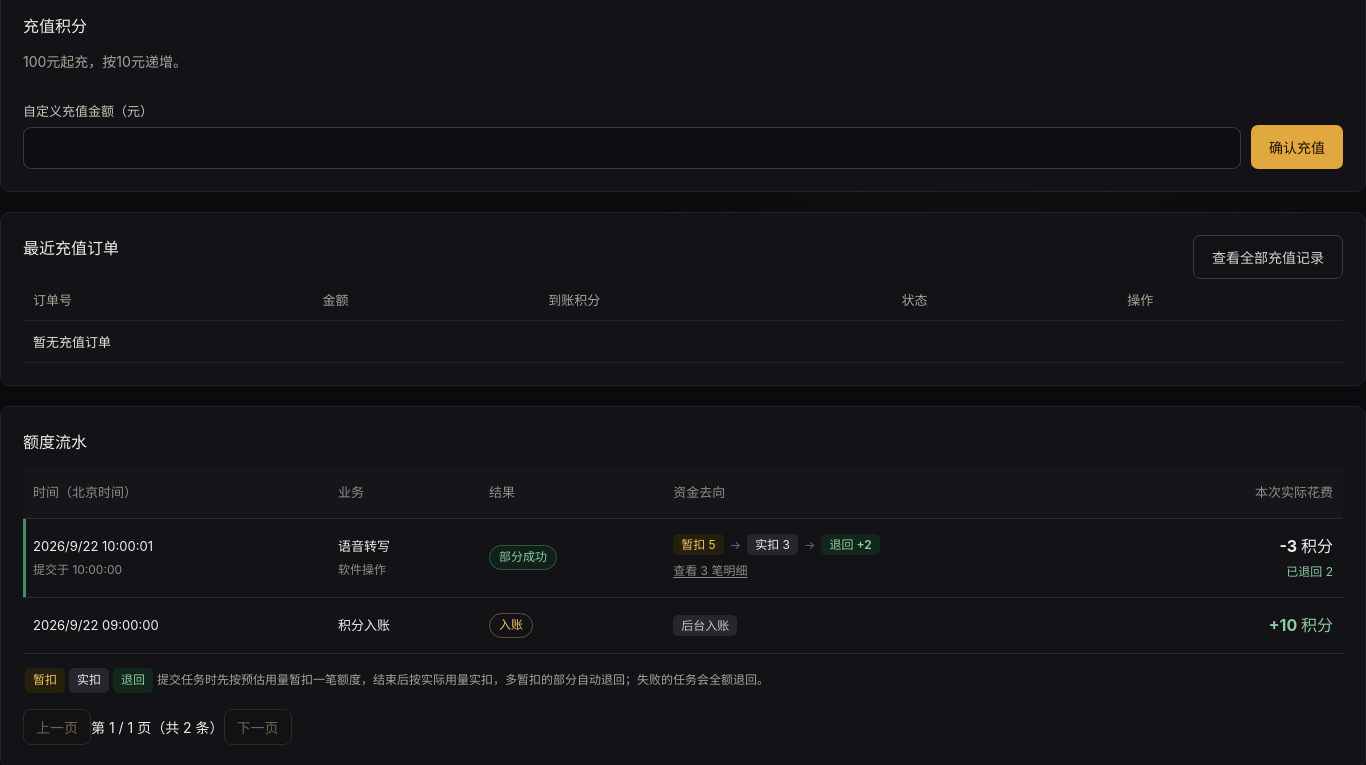
Scenario: CustomerWalletPanel › merges a settled billing cycle into one row with expandable detail
(page scrolled)
Expected: the text "暂扣 5" is shown, [673,534,724,555]
Expected: the text "实扣 3" is shown, [747,534,798,555]
Click the button "查看 3 笔明细": [710, 571] box [673,561,747,581]
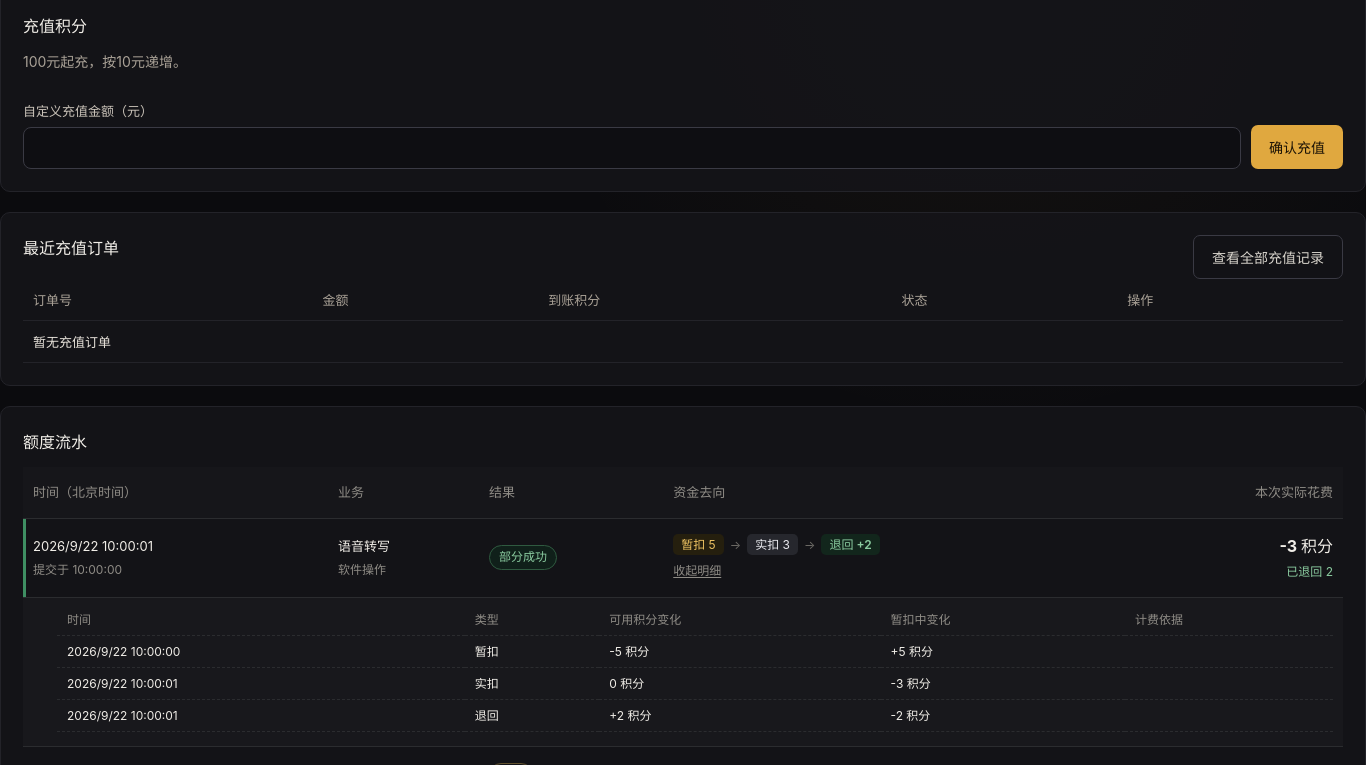
Result: the text "+2 积分" is shown at [599,700,880,732]
